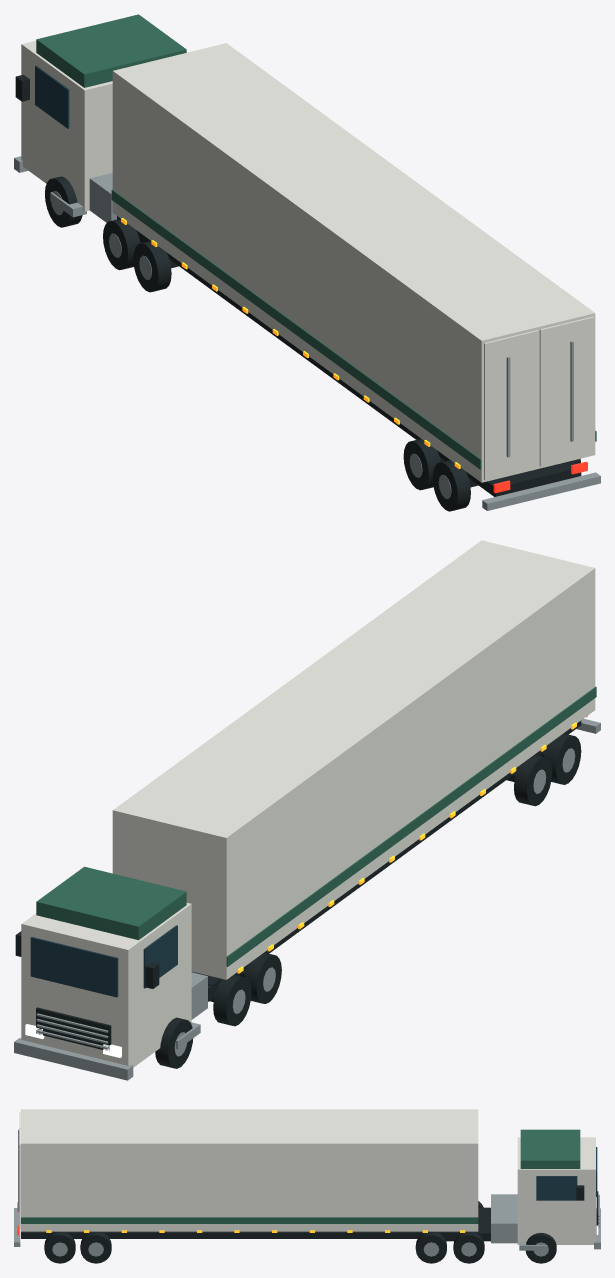
Rendered from truck-tractor.glb.
3 views of the same model, one above another, from view 1: azimuth 30°, elevation 25°; view 2: azimuth 150°, elevation 25°; view 3: azimuth 270°, elevation 25° (orthographic). The views are drawn at different scales.
Parts seen in each view (by area): view 1: cargo-box, rear-door (×2), cab, roof-fairing, cargo-stripe, tractor, trailer-1, trailer-frame, rear-bumper, side-window, fuel-tank; view 2: cargo-box, cab, roof-fairing, cargo-stripe, tractor, windshield, trailer-1, bumper, trailer-frame, grille, side-window; view 3: cargo-box, cab, cargo-stripe, trailer-frame, roof-fairing, tractor, trailer-1, fuel-tank, side-window, frame, rear-bumper.
Boxes of the visible parts, box(x1,y1,x2,y2) form: cargo-box: box(112, 43, 595, 482); rear-door (×2): box(484, 316, 594, 480); cab: box(21, 40, 112, 211); roof-fairing: box(36, 14, 186, 87); cargo-stripe: box(111, 189, 481, 469); tractor: box(45, 176, 171, 292); trailer-1: box(403, 438, 580, 511); trailer-frame: box(137, 231, 581, 496); rear-bumper: box(482, 472, 600, 510); side-window: box(35, 65, 69, 128); fuel-tank: box(89, 173, 116, 222); cargo-box: box(112, 540, 595, 979); cab: box(21, 903, 191, 1067); roof-fairing: box(36, 866, 186, 940); cargo-stripe: box(226, 686, 596, 966); tractor: box(155, 952, 281, 1068); windshield: box(30, 937, 118, 997); trailer-1: box(514, 733, 581, 806); bumper: box(14, 1038, 133, 1080); trailer-frame: box(192, 720, 581, 994); grille: box(36, 1007, 111, 1051); side-window: box(143, 925, 177, 988); cargo-box: box(21, 1109, 478, 1231); cab: box(517, 1137, 595, 1244); cargo-stripe: box(21, 1217, 478, 1223); trailer-frame: box(21, 1231, 478, 1238); roof-fairing: box(520, 1129, 580, 1168); tractor: box(415, 1201, 556, 1263); trailer-1: box(44, 1231, 111, 1263); fuel-tank: box(491, 1194, 517, 1243); side-window: box(536, 1176, 577, 1200); frame: box(444, 1207, 490, 1241); rear-bumper: box(14, 1208, 20, 1246).
Bounding box in the file's own units: 3.14 × 4.17 × 18.73.
